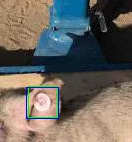text: (28, 86, 57, 117)
